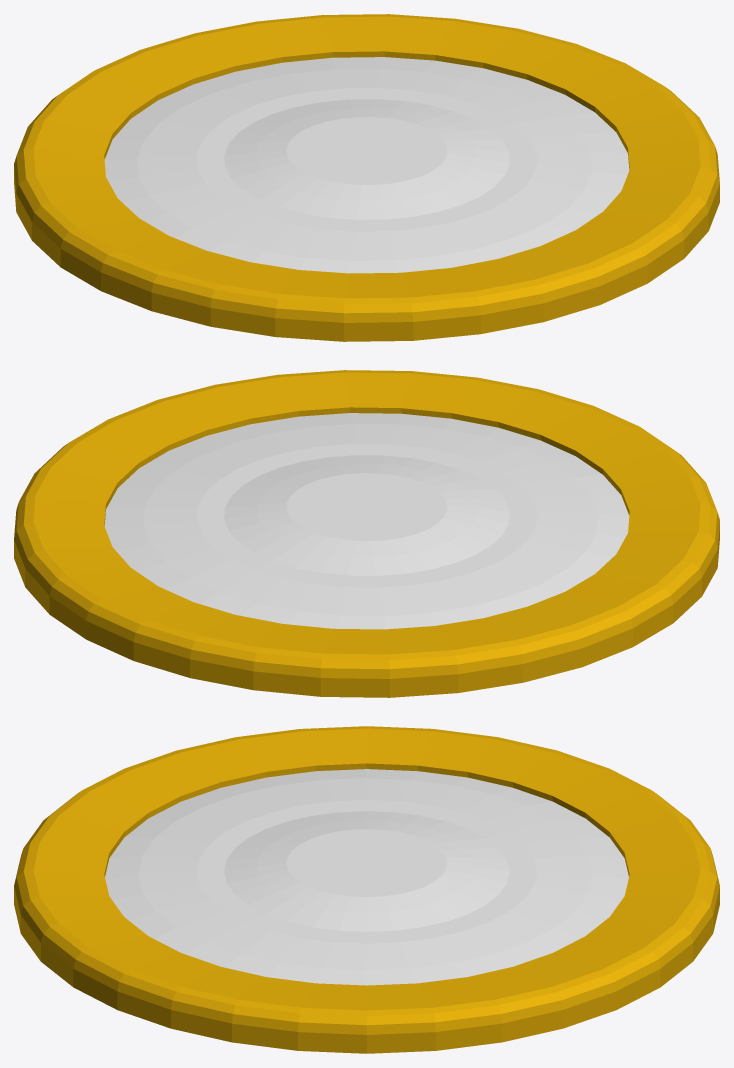
Rendered from JOIA CENTRAL.fbx.
3 renders of one model, top to bottom at view 1: azimuth 30°, elevation 25°; view 2: azimuth 150°, elevation 25°; view 3: azimuth 270°, elevation 25°, orthographic.
Parts seen in each view (by area): view 1: centro; view 2: centro; view 3: centro.
Boxes of the visible parts, bbox=[...] form: centro: bbox=[14, 14, 719, 341]; centro: bbox=[14, 370, 719, 697]; centro: bbox=[14, 726, 719, 1053].
Bounding box in the file's own units: 157 × 10.18 × 157.
